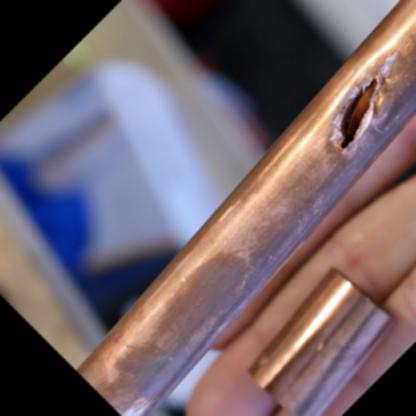burst: (330, 80, 381, 150)
